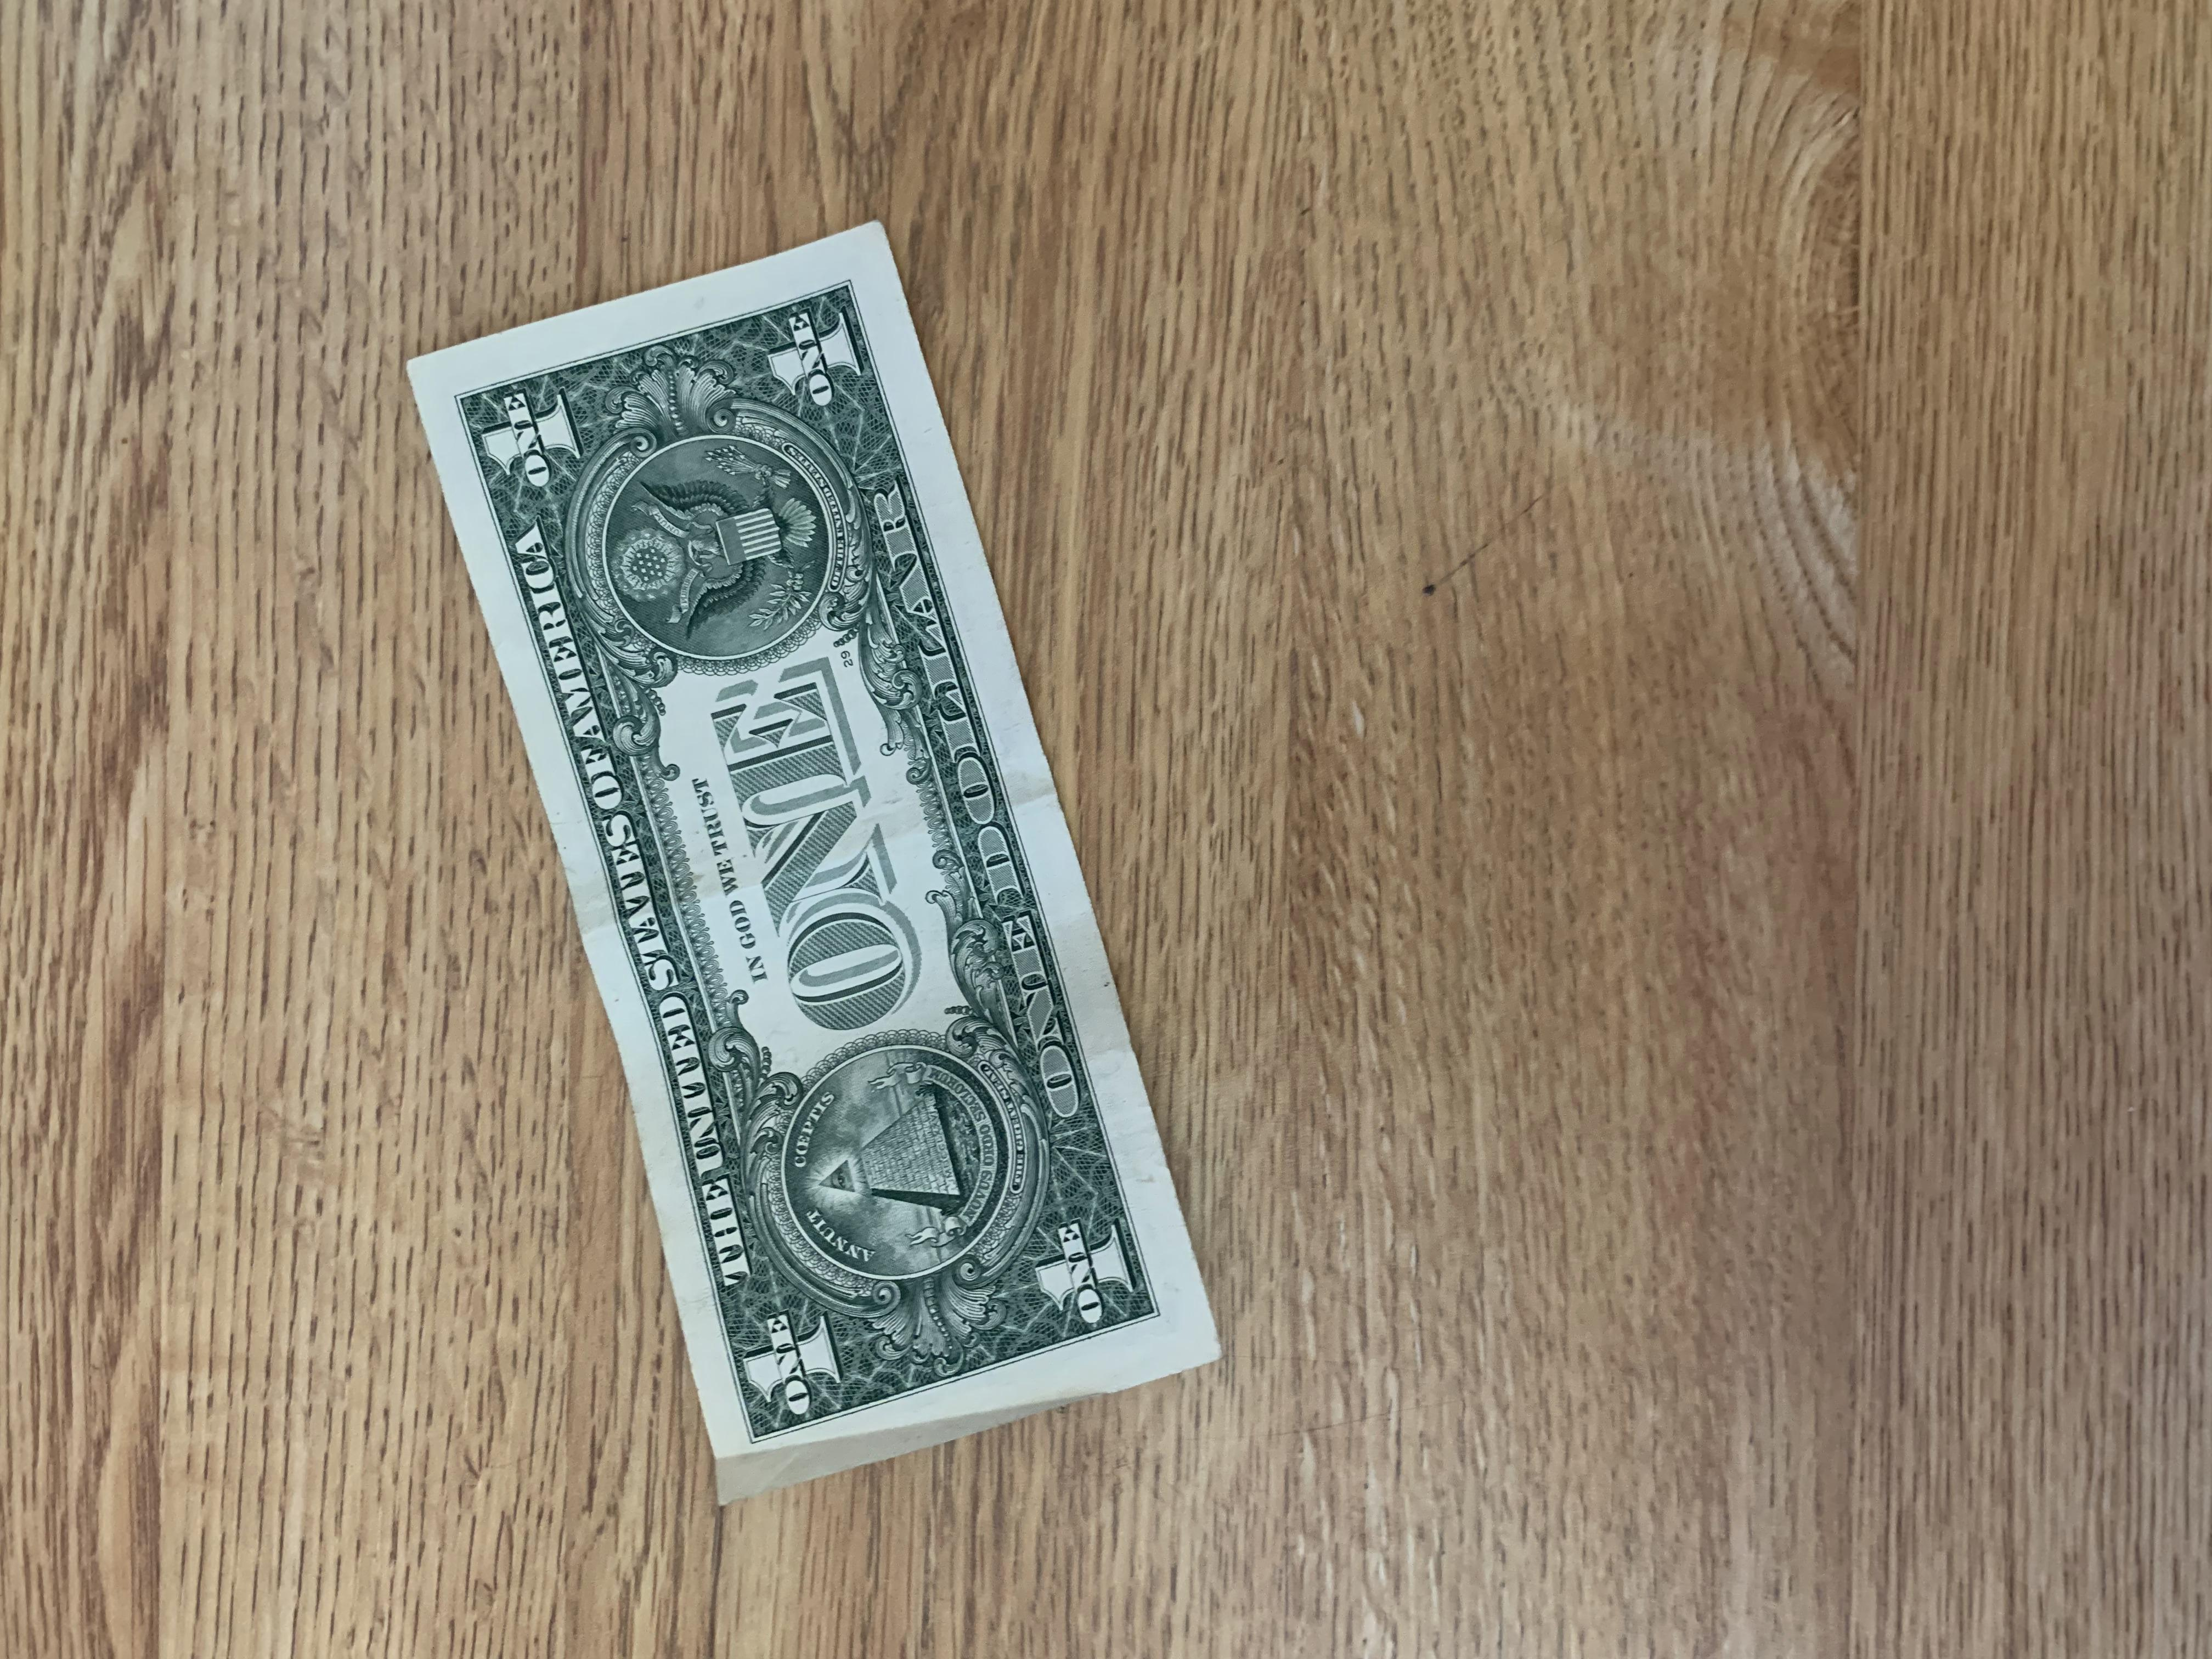OneBill: (369, 218, 1238, 1514)
